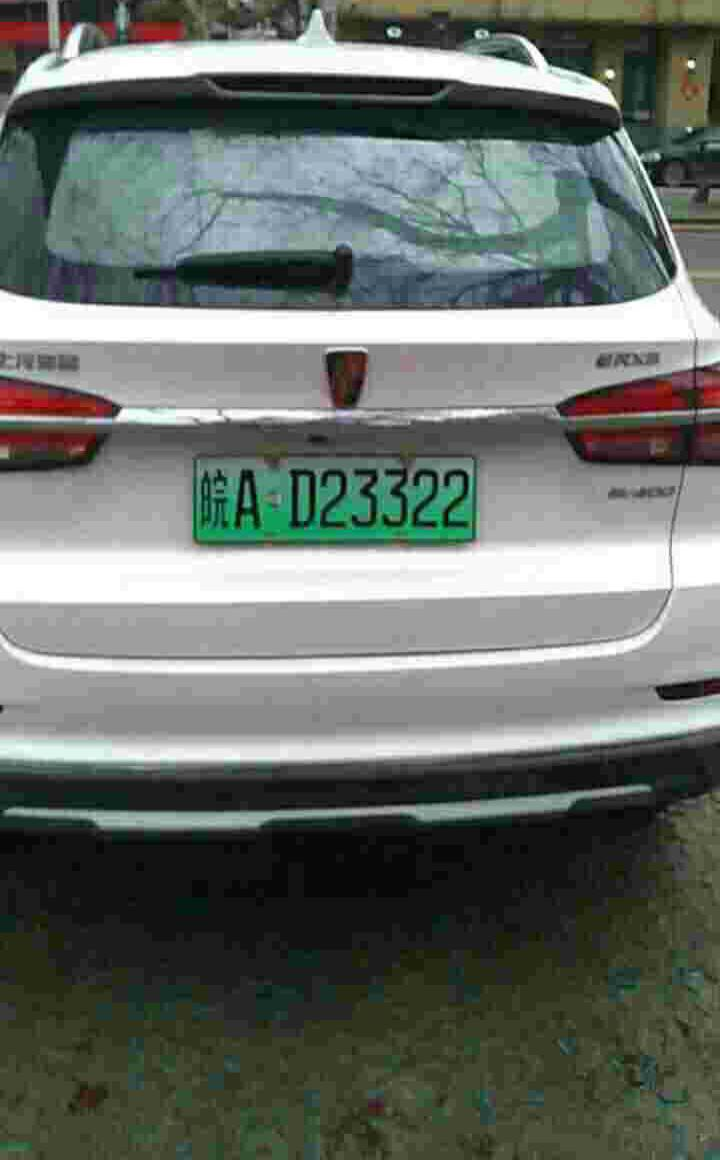car: (189, 451, 482, 547)
